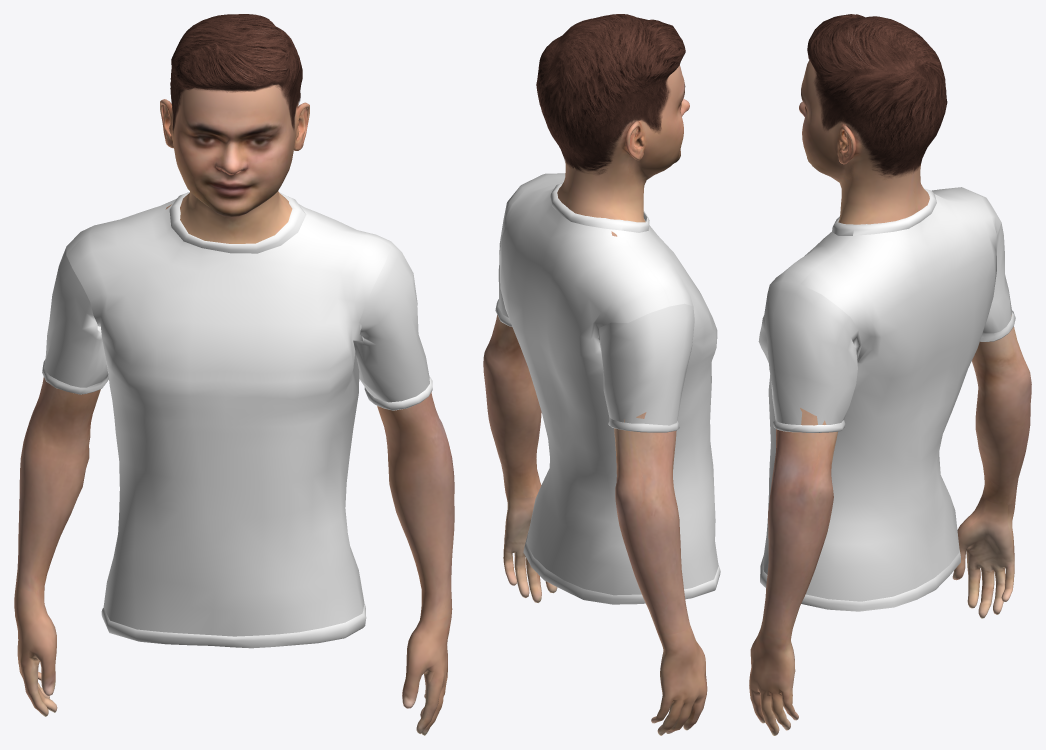
File: avthar3.glb
3 renders of one model, left to right at view 1: azimuth 30°, elevation 25°; view 2: azimuth 150°, elevation 25°; view 3: azimuth 270°, elevation 25°, orthographic. The views are drawn at different scales.
Visible parts, largest first — view 1: avaturn_look_1, avaturn_body, avaturn_hair_0; view 2: avaturn_look_1, avaturn_body, avaturn_hair_0; view 3: avaturn_look_1, avaturn_body, avaturn_hair_0.
Boxes of the visible parts, x1,y1,x2,y2 form: avaturn_look_1: (42, 192, 432, 648); avaturn_body: (14, 84, 454, 735); avaturn_hair_0: (170, 14, 302, 133); avaturn_look_1: (495, 173, 720, 604); avaturn_body: (483, 65, 707, 735); avaturn_hair_0: (536, 14, 685, 174); avaturn_look_1: (758, 187, 1015, 611); avaturn_body: (749, 60, 1031, 735); avaturn_hair_0: (807, 14, 947, 177).
Bounding box in the file's own units: 0.5157 × 1.05 × 0.4144.
3 materials, 3 textured.
